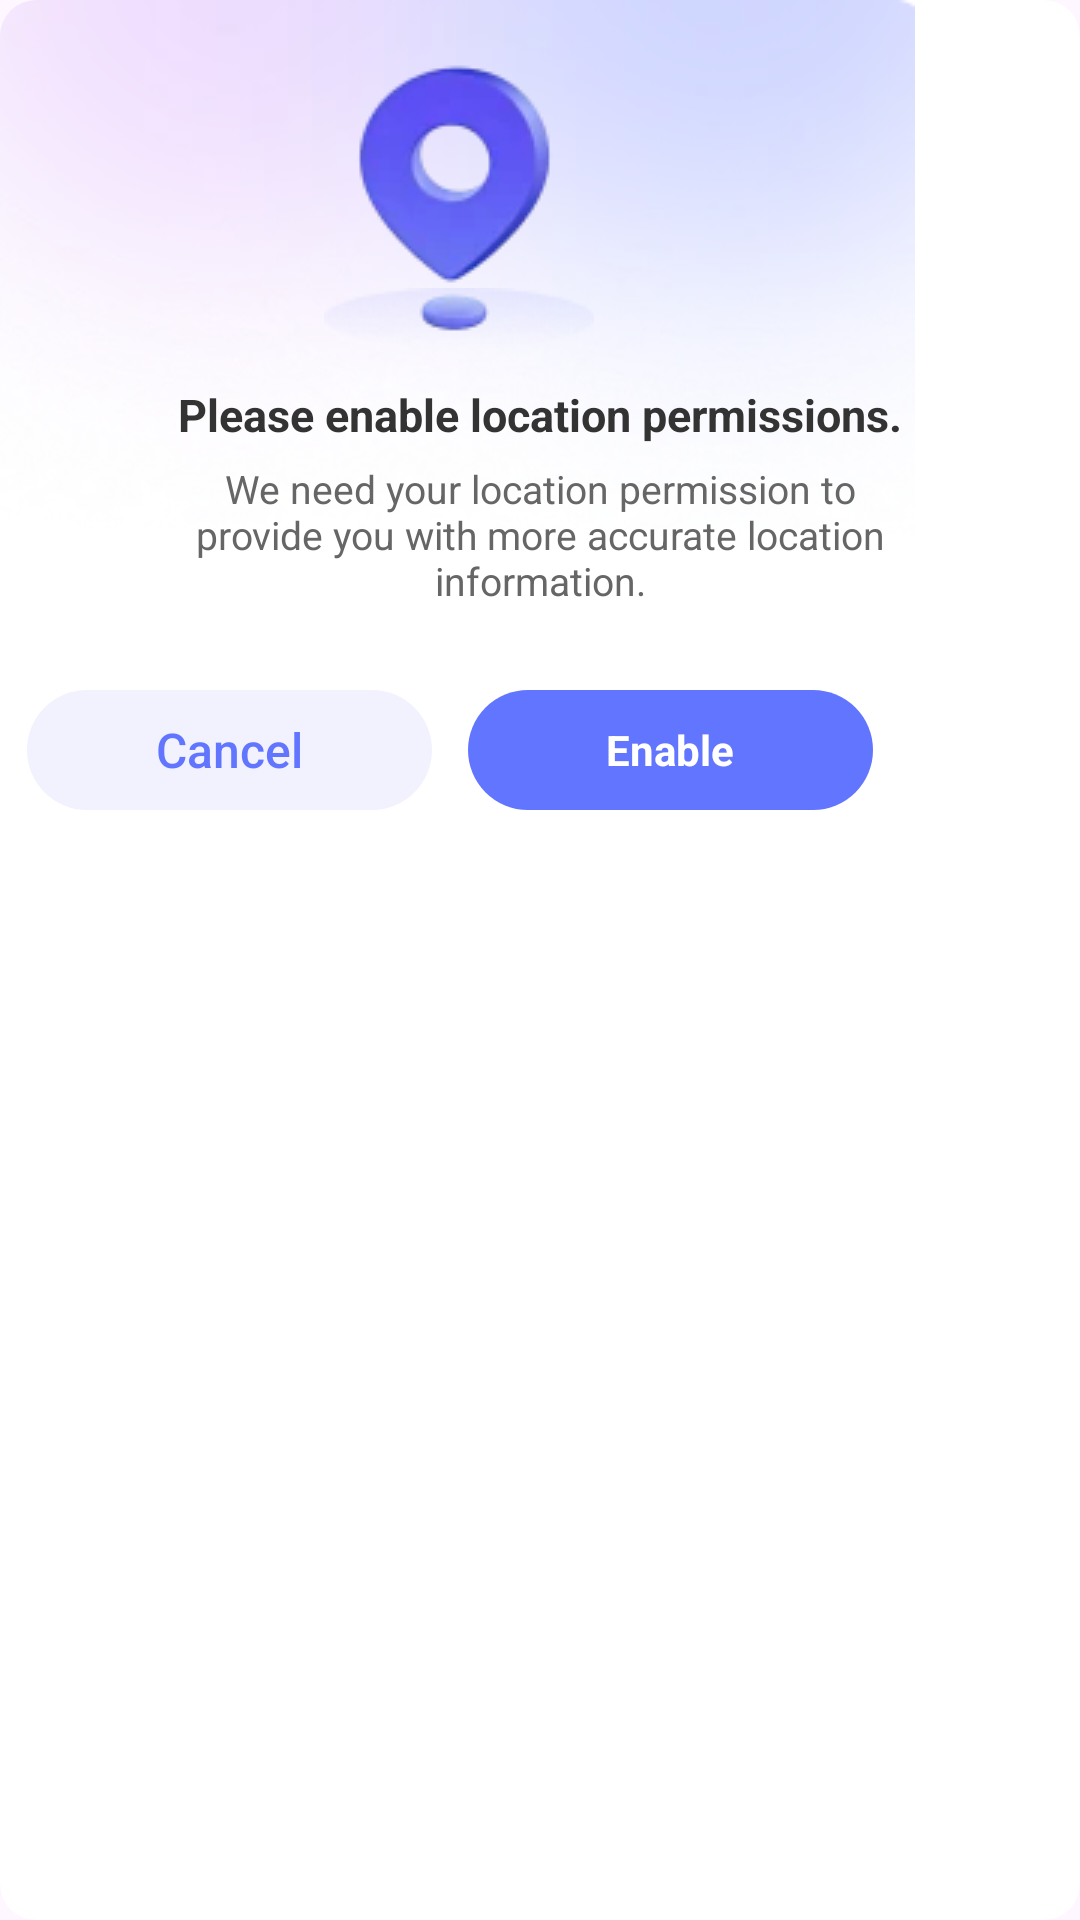

Named icons in this screenshot (1080 × 1920) and their bounding boxes, (x1, y1, x2, y2):
figma permission pin: (359, 65, 551, 331)
